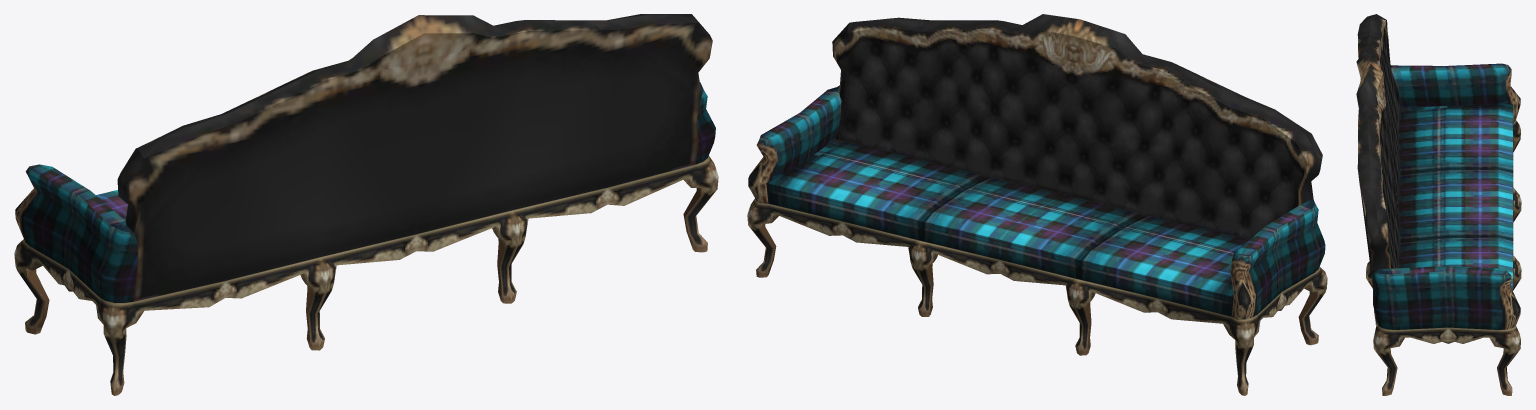
Rendered from furni_0200310_02.FBX.
3 renders of one model, left to right at view 1: azimuth 30°, elevation 25°; view 2: azimuth 150°, elevation 25°; view 3: azimuth 270°, elevation 25°, orthographic. The views are drawn at different scales.
Visible parts, largest first — view 1: furni_0200310_02; view 2: furni_0200310_02; view 3: furni_0200310_02.
Part boxes in pixels (x1=…): furni_0200310_02: x1=14, y1=14, x2=718, y2=395; furni_0200310_02: x1=747, y1=14, x2=1327, y2=395; furni_0200310_02: x1=1356, y1=14, x2=1521, y2=395.
Size of the model in its own units: 237 by 116 by 75.87.
